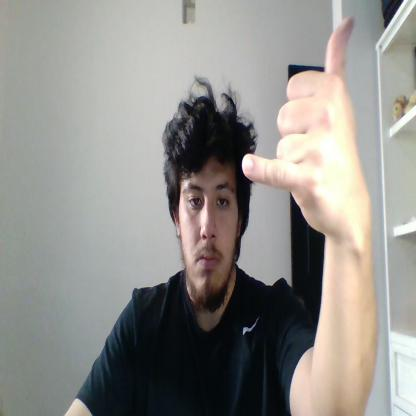Y: (241, 17, 368, 238)
